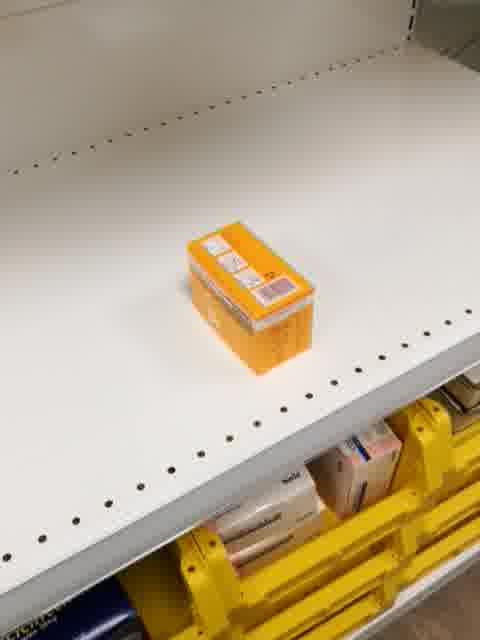jasminetea: (189, 218, 316, 379)
